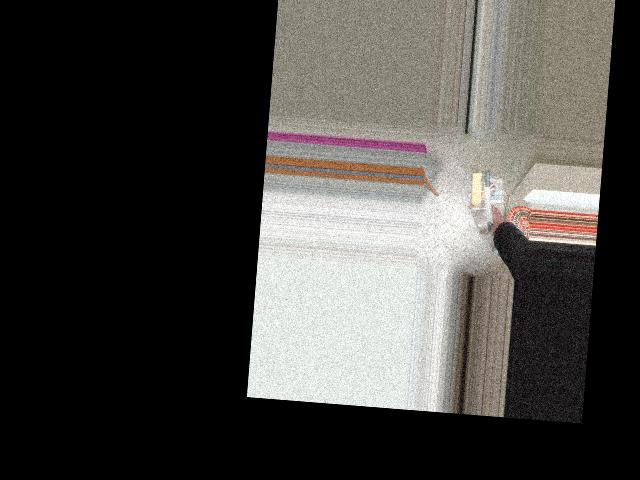cheese: (451, 167, 530, 224)
